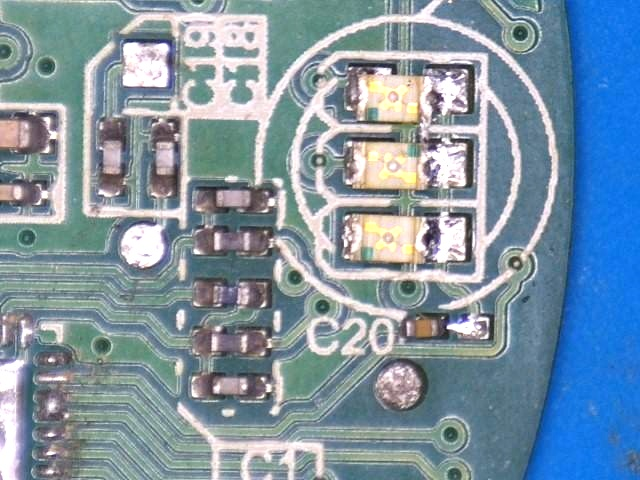pcb_defect: (344, 67, 470, 124), (341, 139, 469, 191), (342, 212, 468, 264), (419, 67, 469, 188), (405, 313, 490, 340), (417, 312, 490, 340), (32, 389, 69, 423)
